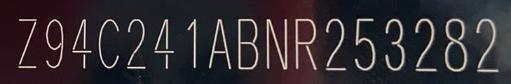letter: (406, 15, 438, 75), (471, 16, 503, 74), (439, 17, 471, 73), (260, 16, 290, 72), (351, 15, 381, 69), (204, 16, 233, 70), (289, 17, 319, 69), (323, 17, 350, 71), (64, 18, 93, 68), (381, 15, 406, 71), (153, 17, 179, 69), (95, 19, 122, 69), (234, 17, 259, 71), (15, 17, 41, 67), (181, 16, 204, 72), (125, 18, 150, 68), (42, 18, 63, 68)
